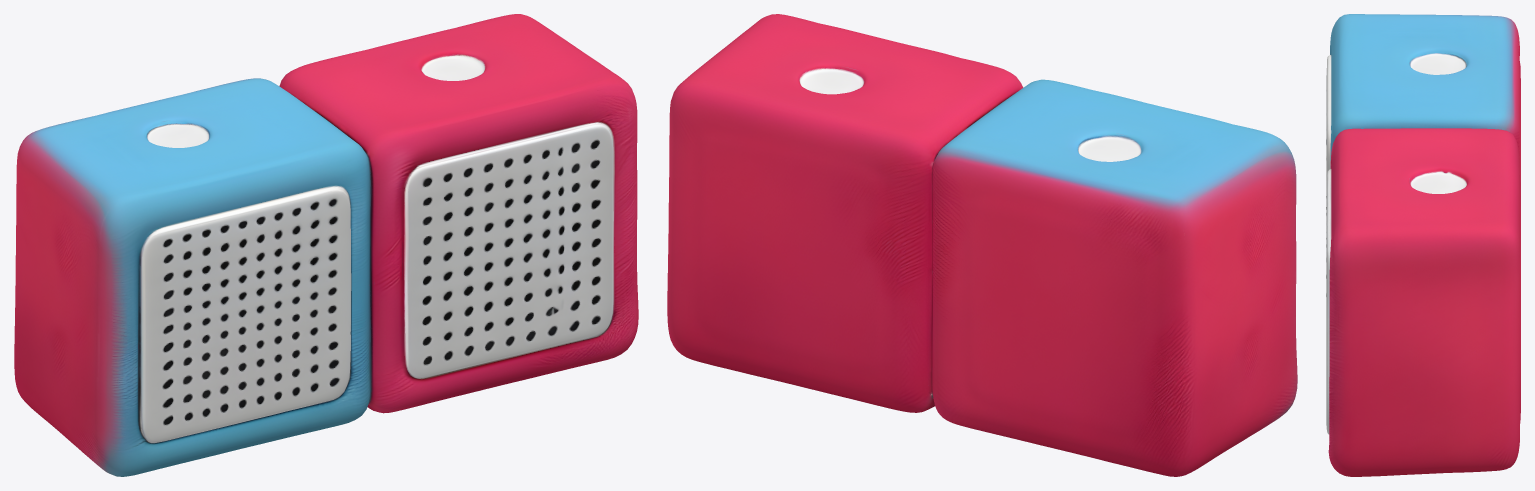
File: Speakers_Shaded.glb
3 renders of one model, left to right at view 1: azimuth 30°, elevation 25°; view 2: azimuth 150°, elevation 25°; view 3: azimuth 270°, elevation 25°, orthographic. The views are drawn at different scales.
Parts seen in each view (by area): view 1: model; view 2: model; view 3: model.
Boxes of the visible parts, box(x1,y1,x2,y2) form: model: box(14, 14, 638, 476); model: box(667, 14, 1297, 476); model: box(1326, 14, 1520, 476).
Size of the model in its own units: 1.91 by 0.9533 by 0.6717.
Materials: 1 (1 with a texture image).
